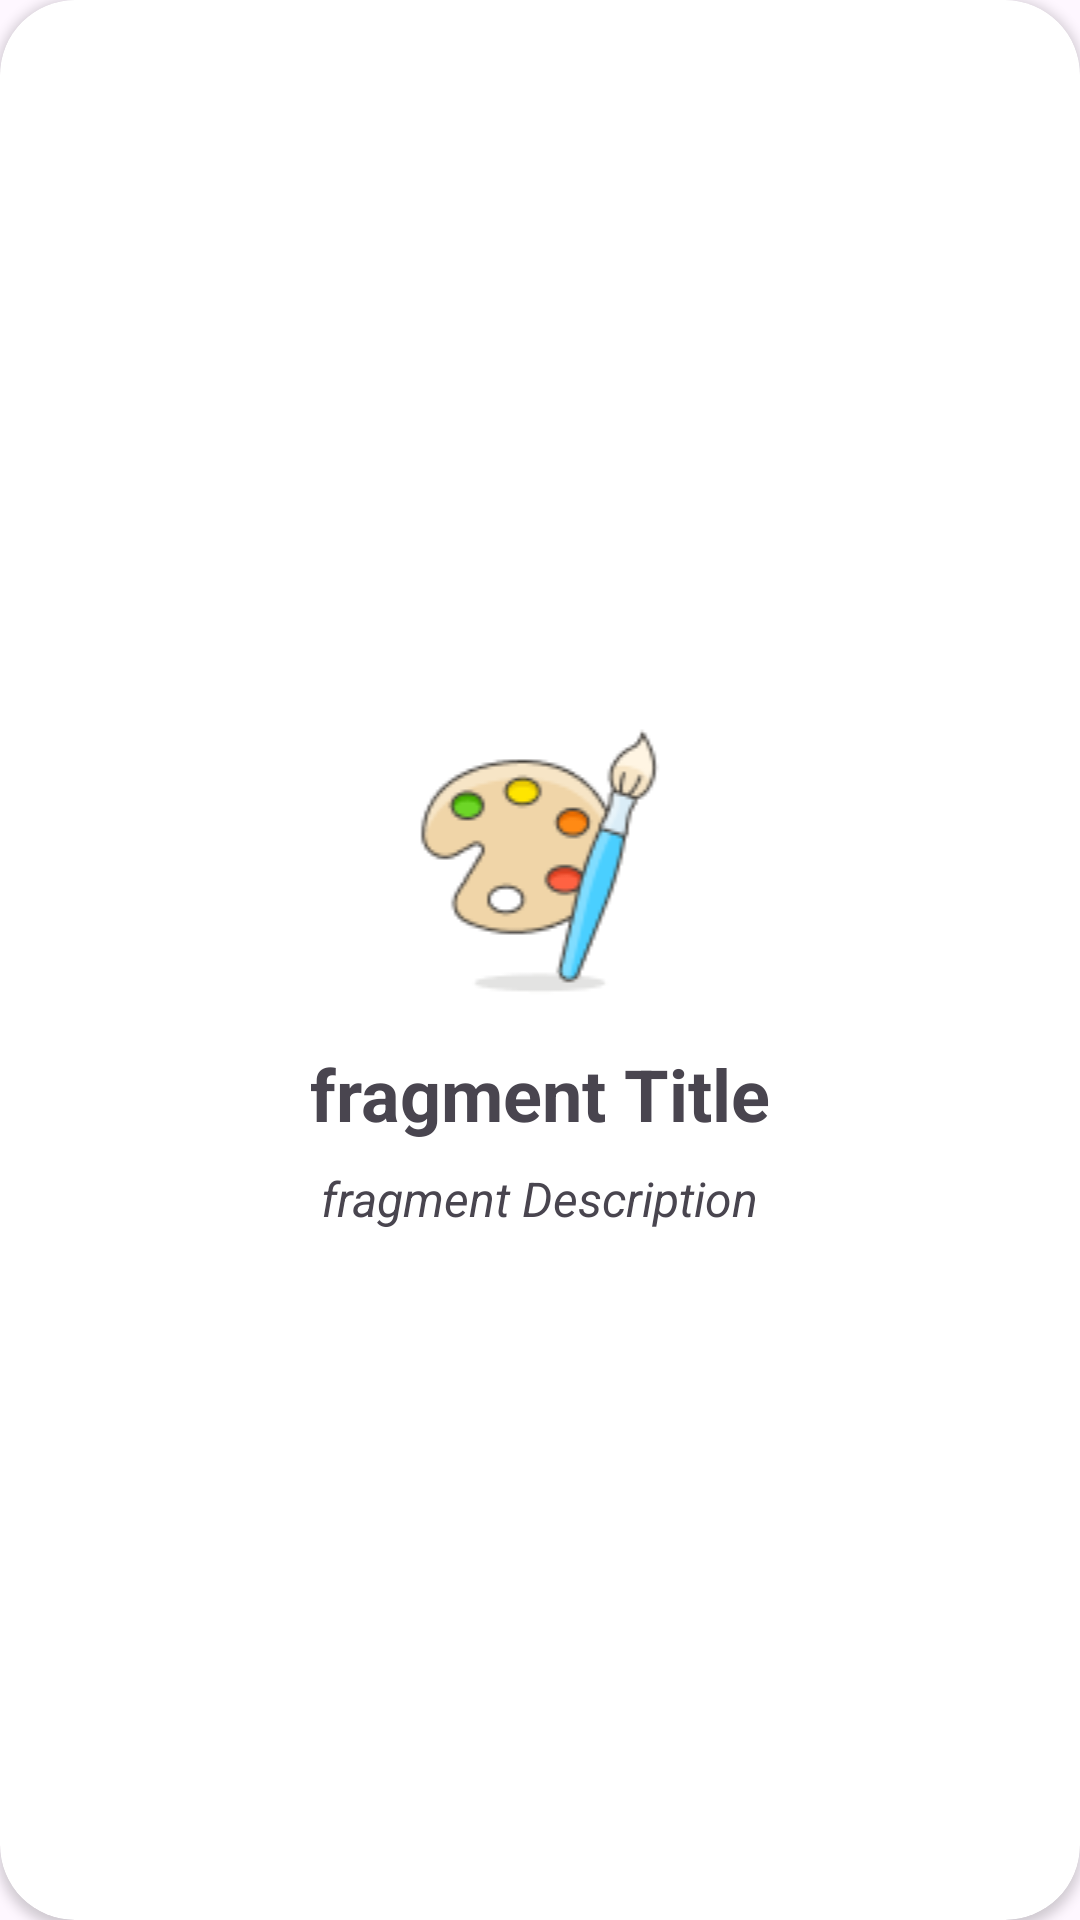

Where to tap for icons on this 1080×1920 app screen, as [x,y]:
art: [538,860]
